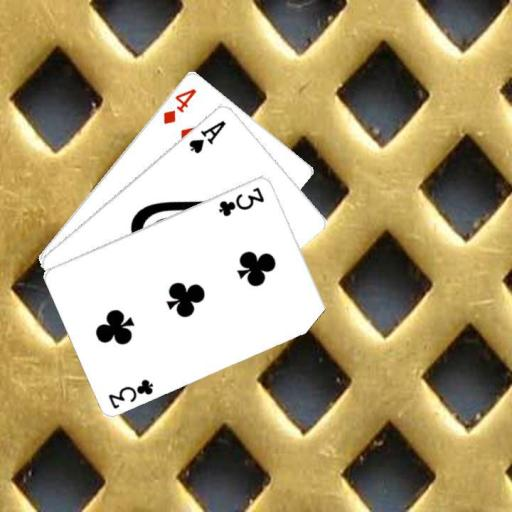3C: (105, 376, 155, 411), (215, 184, 266, 218)
4D: (159, 85, 198, 125)
AS: (185, 117, 227, 154)
